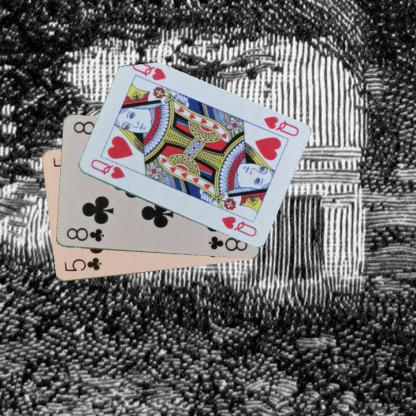5c: (61, 255, 103, 273)
8c: (64, 225, 105, 243)
Qh: (260, 113, 300, 138), (87, 156, 126, 181)
